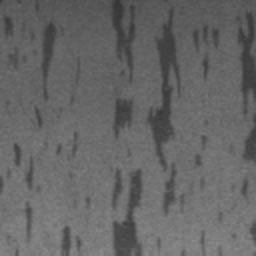Red iron sheet: (86, 1, 256, 256), (4, 1, 81, 127), (0, 145, 35, 237), (61, 225, 82, 256), (56, 131, 79, 155), (250, 224, 256, 247)
